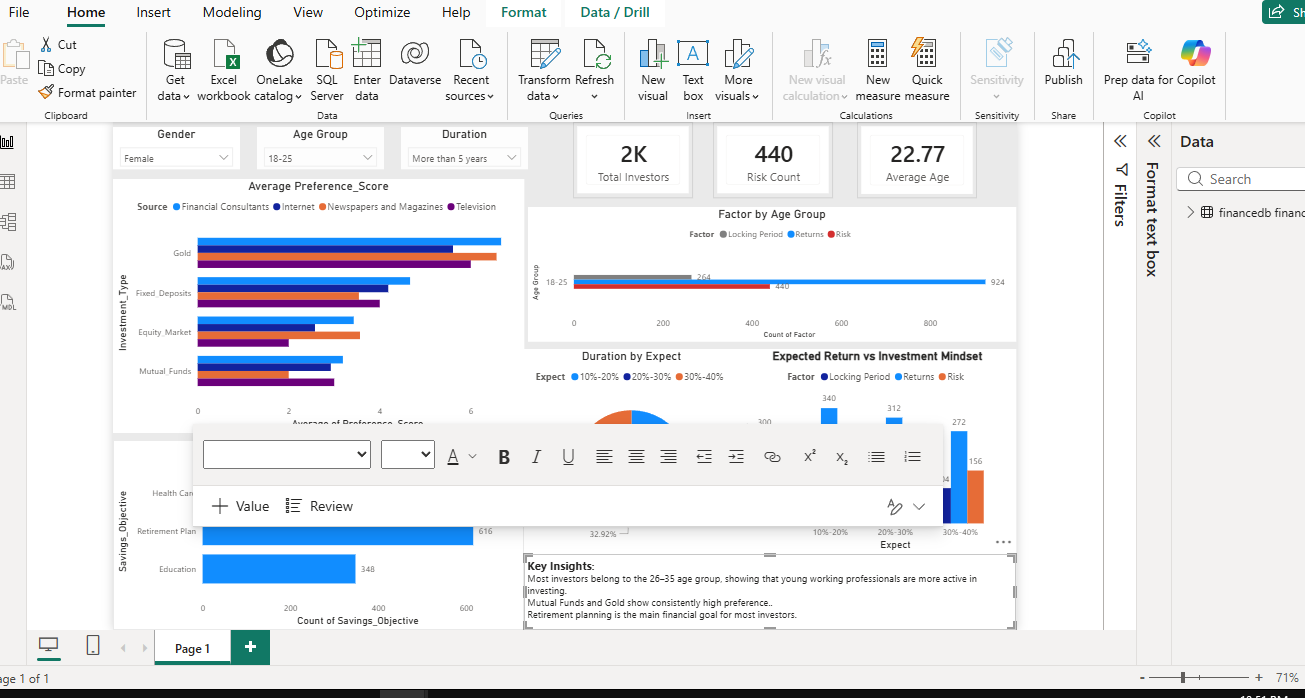

The page's visual inventory and layout, read from the dashboard file:
{"tool":"powerbi","page":{"name":"Page 1","canvas":[1280,720],"ordinal":0},"visuals":[{"type":"cardVisual","fields":{"Data":["financedb financial_behaviour.Total Investors"]},"box":[652,0,170.1,107.7],"z":0},{"type":"cardVisual","fields":{"Data":["financedb financial_behaviour.Average Age"]},"box":[1054.1,0,170,108],"z":1000},{"type":"cardVisual","fields":{"Data":["financedb financial_behaviour.Risk Count"]},"box":[850.4,0,170.1,107.7],"z":2000},{"type":"clusteredBarChart","title":"Factor by Age Group","fields":{"Category":["financedb financial_behaviour.Age Group"],"Series":["financedb financial_behaviour.Factor"],"Y":["CountNonNull(financedb financial_behaviour.Factor)"]},"box":[588.2,120.5,691.7,191.3],"z":3000},{"type":"donutChart","title":"Duration by Expect","fields":{"Y":["CountNonNull(financedb financial_behaviour.Duration)"],"Category":["financedb financial_behaviour.Expect"]},"box":[582.5,321.7,304.7,290.6],"z":4000},{"type":"clusteredBarChart","title":"Count of Savings_Objective","fields":{"Category":["financedb financial_behaviour.Savings_Objective"],"Y":["CountNonNull(financedb financial_behaviour.Savings_Objective)"]},"box":[0,450.7,582.5,269.3],"z":5000},{"type":"clusteredBarChart","title":"Average Preference_Score","fields":{"Category":["financedb financial_behaviour.Investment_Type"],"Y":["Avg(financedb financial_behaviour.Preference_Score)"],"Series":["financedb financial_behaviour.Source"]},"box":[0,80.8,582.5,360],"z":6000},{"type":"slicer","title":"Gender","fields":{"Values":["financedb financial_behaviour.gender"]},"box":[0,7.2,180,60],"z":7000},{"type":"slicer","title":"Age Group","fields":{"Values":["financedb financial_behaviour.Age Group"]},"box":[203.8,7.2,180,60],"z":8000},{"type":"slicer","title":"Duration","fields":{"Values":["financedb financial_behaviour.Duration"]},"box":[407.5,7.2,180,60],"z":9000},{"type":"clusteredColumnChart","title":"Expected Return vs Investment Mindset","fields":{"Category":["financedb financial_behaviour.Expect"],"Y":["CountNonNull(financedb financial_behaviour.Factor)"],"Series":["financedb financial_behaviour.Factor"]},"box":[887.2,321.7,392.6,290.6],"z":10000},{"type":"textbox","box":[582.5,612.3,697.3,107.7],"z":11000}]}

Visuals, with their boxes on the page's 1280x720 design canvas (x1, y1, x2, y2). These are canvas units, not pixel positions in the 1305x698 screenshot, which may show the page scaled, cropped or inside an application window:
cardVisual - financedb financial_behaviour.Total Investors: 652, 0, 822, 108
cardVisual - financedb financial_behaviour.Average Age: 1054, 0, 1224, 108
cardVisual - financedb financial_behaviour.Risk Count: 850, 0, 1020, 108
"Factor by Age Group" clusteredBarChart: 588, 120, 1280, 312
"Duration by Expect" donutChart: 582, 322, 887, 612
"Count of Savings_Objective" clusteredBarChart: 0, 451, 582, 720
"Average Preference_Score" clusteredBarChart: 0, 81, 582, 441
"Gender" slicer: 0, 7, 180, 67
"Age Group" slicer: 204, 7, 384, 67
"Duration" slicer: 408, 7, 588, 67
"Expected Return vs Investment Mindset" clusteredColumnChart: 887, 322, 1280, 612
textbox: 582, 612, 1280, 720
